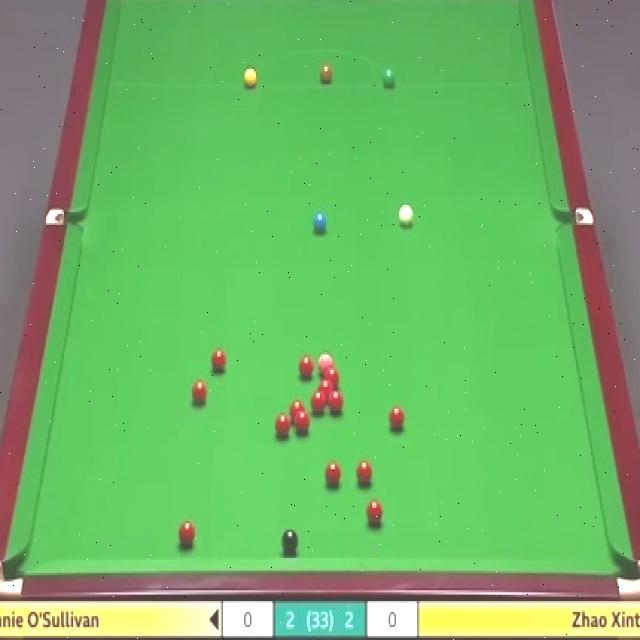black-ball: (281, 526, 299, 556)
blue-ball: (311, 210, 328, 236)
brown-ball: (319, 66, 332, 84)
green-ball: (383, 68, 395, 88)
pink-ball: (318, 352, 334, 371)
red-ball: (366, 499, 384, 528), (178, 521, 197, 548), (298, 354, 315, 381), (191, 378, 207, 406), (389, 406, 406, 431), (325, 462, 342, 485), (295, 410, 311, 434), (356, 461, 372, 485), (211, 347, 226, 372), (275, 414, 291, 436), (309, 392, 327, 411), (329, 391, 344, 412), (316, 379, 336, 394), (289, 398, 304, 417), (324, 368, 342, 381)
white-ball: (398, 200, 414, 228)
yellow-ball: (243, 66, 258, 89)
